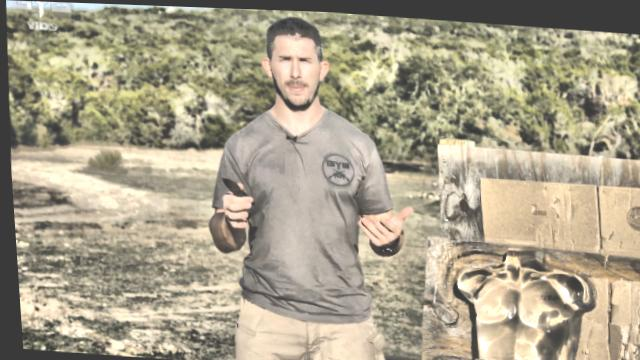knife: (212, 170, 254, 210)
